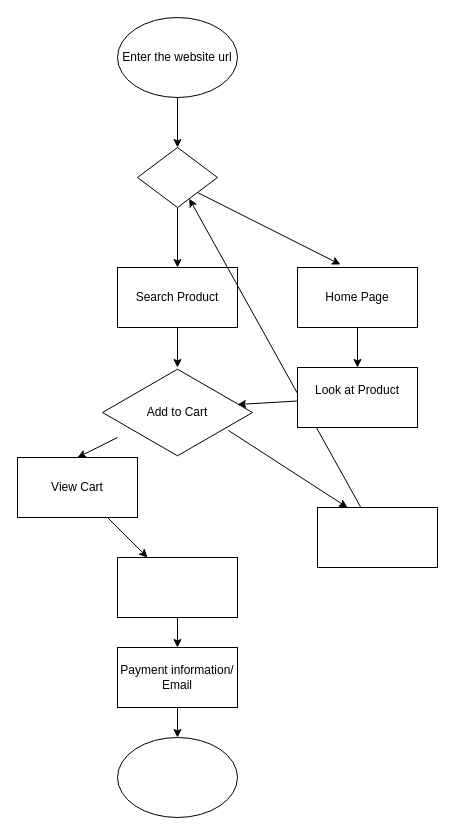
Some shapes in this 455 by 835 pixel diagram are drawn without their labels. Here are the shapes that lost their labels. From the top down, the box of each, then its label:
(136, 146, 218, 208): Choose Action
(316, 506, 438, 568): Continue Shopping
(116, 556, 238, 618): Viet Payment
(116, 736, 238, 818): Exit Website
